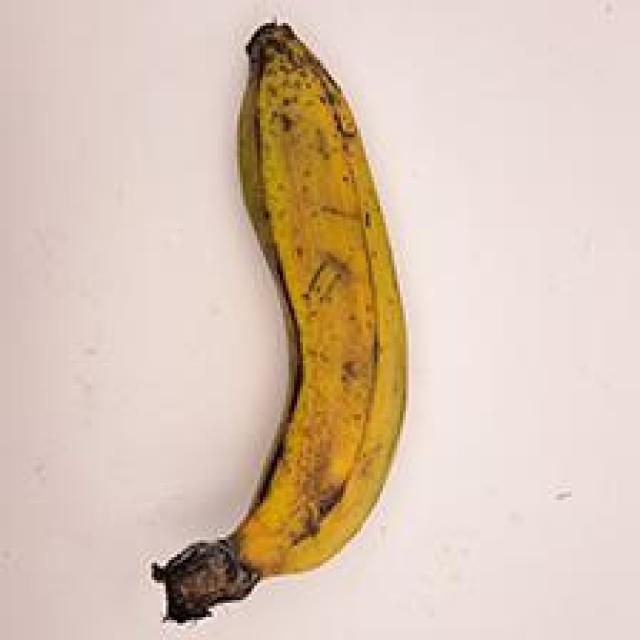Overripe: (102, 13, 428, 639)
